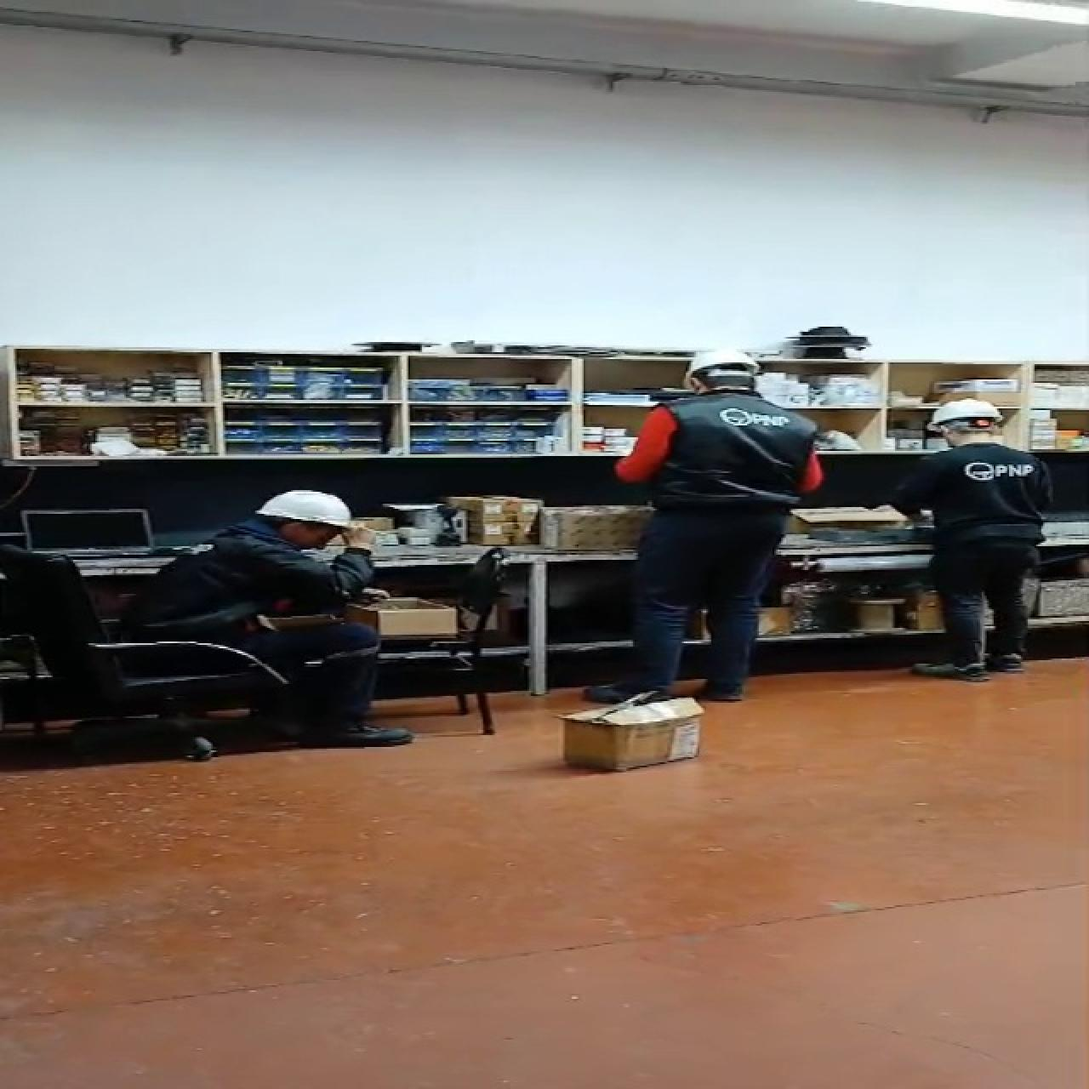NO_Safety_Vest: (114, 513, 274, 638), (661, 398, 805, 521), (934, 438, 1040, 547)
Person: (78, 473, 428, 749), (601, 332, 840, 704), (889, 377, 1057, 676)
